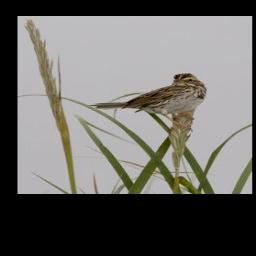Sparrow: (85, 72, 207, 131)
